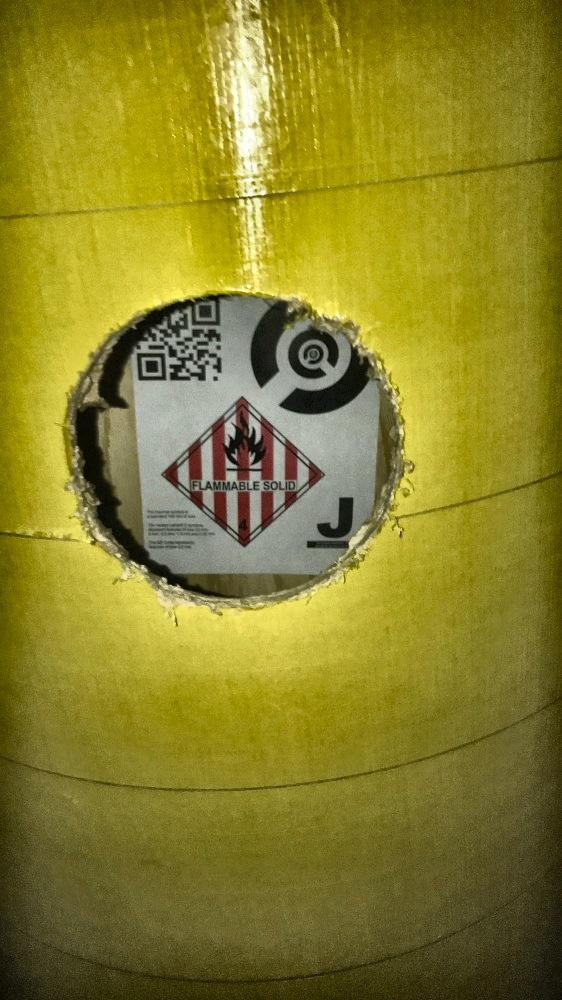flammable-solid: (162, 397, 327, 548)
